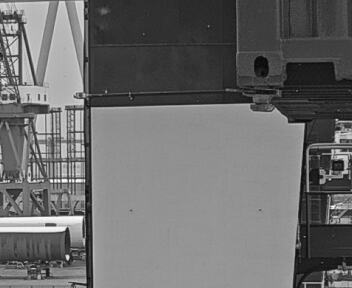twist_lock_1: (235, 81, 286, 122)
